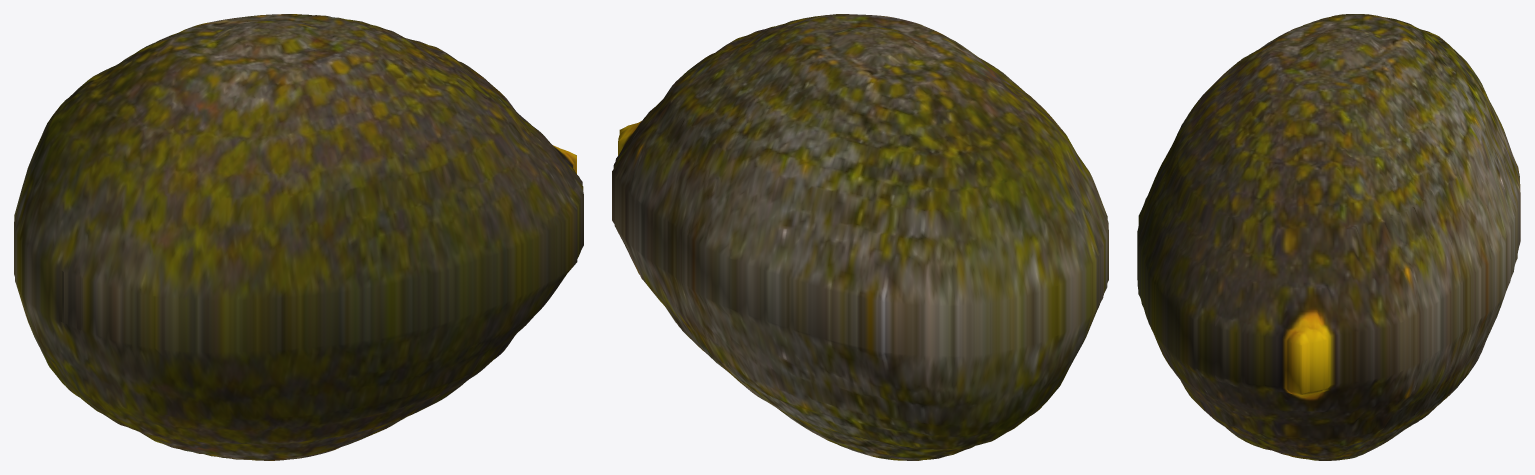
File: avocado_6.obj
3 views of the same model, side by side, from view 1: azimuth 30°, elevation 25°; view 2: azimuth 150°, elevation 25°; view 3: azimuth 270°, elevation 25° (orthographic). The views are drawn at different scales.
Visible parts, largest first — view 1: Grid; view 2: Grid; view 3: Grid.
Part boxes in pixels (<box>): Grid: <box>14,14,583,460</box>; Grid: <box>612,14,1108,460</box>; Grid: <box>1137,14,1520,460</box>.
Bounding box in the file's own units: 2.08 × 1.6 × 1.43.
1 material, 1 textured.
